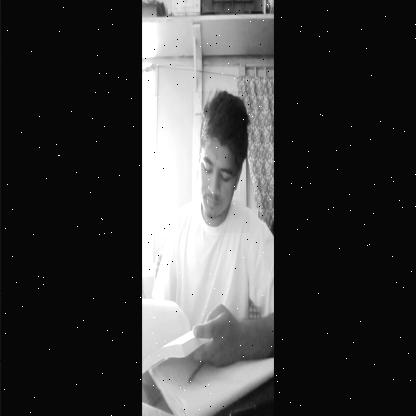Normal: (192, 91, 250, 233)
